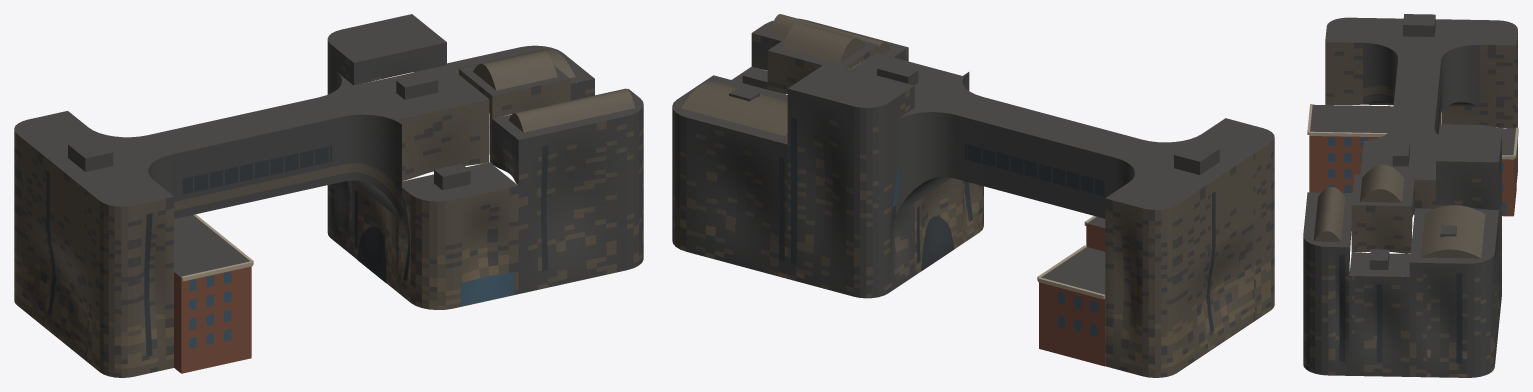
The model's file is studio-bell-near.glb.
The picture shows the model from 3 angles, left to right: view 1: azimuth 30°, elevation 25°; view 2: azimuth 150°, elevation 25°; view 3: azimuth 270°, elevation 25°; orthographic projection. The views are drawn at different scales.
Parts seen in each view (by area): view 1: studio-bell-0-tileBronze, studio-bell-0-tileDark, studio-bell-0-roof, studio-bell-0-brick, studio-bell-0-glow, studio-bell-0-tileGold, studio-bell-0-glass, studio-bell-0-trim; view 2: studio-bell-0-tileDark, studio-bell-0-tileBronze, studio-bell-0-roof, studio-bell-0-glow, studio-bell-0-brick, studio-bell-0-tileGold, studio-bell-0-glass, studio-bell-0-trim; view 3: studio-bell-0-tileDark, studio-bell-0-roof, studio-bell-0-tileBronze, studio-bell-0-brick, studio-bell-0-glow, studio-bell-0-glass, studio-bell-0-trim, studio-bell-0-tileGold.
Part boxes in pixels (<box>): studio-bell-0-tileBronze: <box>14,48,643,377</box>; studio-bell-0-tileDark: <box>14,39,643,377</box>; studio-bell-0-roof: <box>14,14,643,277</box>; studio-bell-0-brick: <box>174,266,251,373</box>; studio-bell-0-glow: <box>46,145,548,356</box>; studio-bell-0-tileGold: <box>14,202,508,371</box>; studio-bell-0-glass: <box>189,271,514,348</box>; studio-bell-0-trim: <box>181,214,253,281</box>; studio-bell-0-tileDark: <box>672,35,1274,377</box>; studio-bell-0-tileBronze: <box>672,14,1274,377</box>; studio-bell-0-roof: <box>672,18,1274,294</box>; studio-bell-0-glow: <box>779,118,1215,332</box>; studio-bell-0-brick: <box>1039,223,1105,366</box>; studio-bell-0-tileGold: <box>680,183,1274,368</box>; studio-bell-0-glass: <box>892,166,1097,336</box>; studio-bell-0-trim: <box>1037,216,1105,299</box>; studio-bell-0-tileDark: <box>1303,42,1517,377</box>; studio-bell-0-roof: <box>1303,14,1517,276</box>; studio-bell-0-tileBronze: <box>1303,30,1517,377</box>; studio-bell-0-brick: <box>1309,113,1516,216</box>; studio-bell-0-glow: <box>1339,87,1500,363</box>; studio-bell-0-glass: <box>1328,137,1516,214</box>; studio-bell-0-trim: <box>1307,104,1518,159</box>; studio-bell-0-tileGold: <box>1426,140,1517,377</box>.
Size of the model in its own units: 98.04 by 34 by 41.02.
